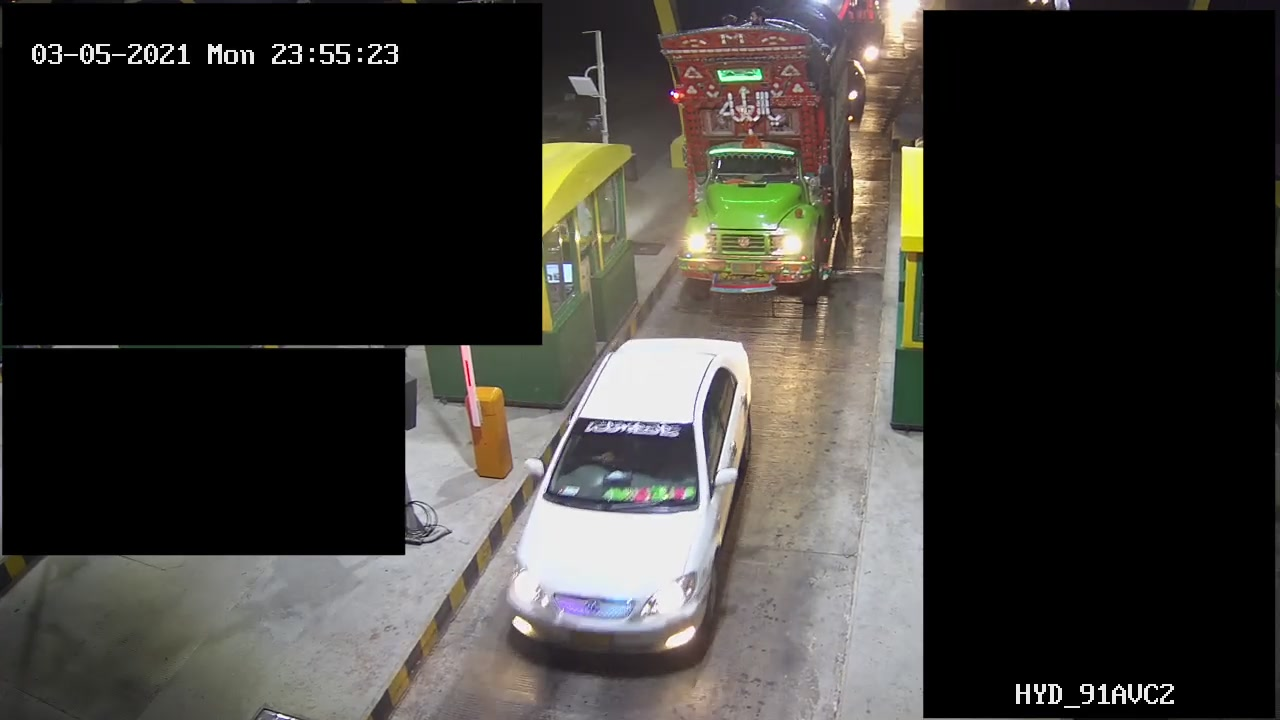F1: (487, 333, 764, 672)
